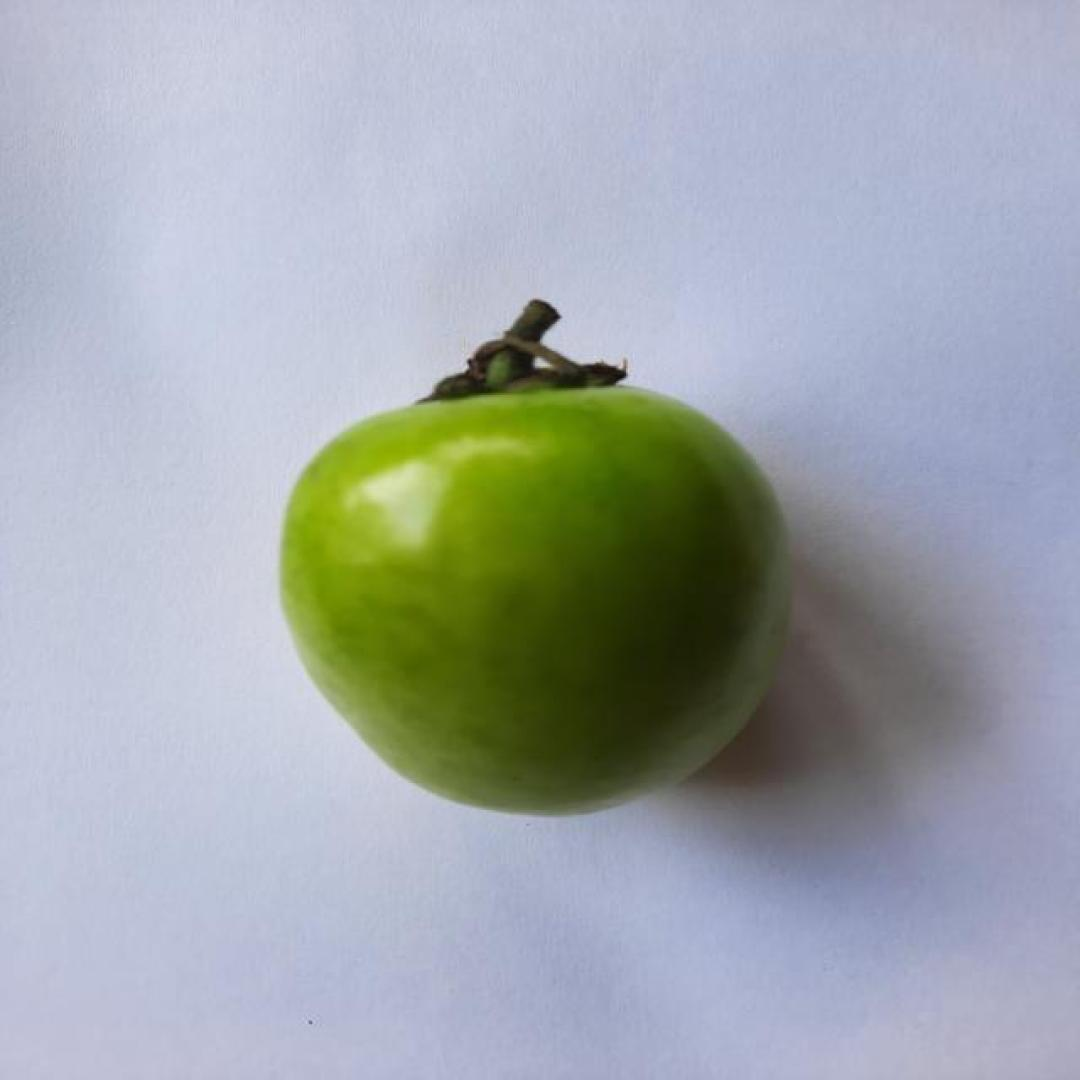mentah: (278, 301, 790, 818)
